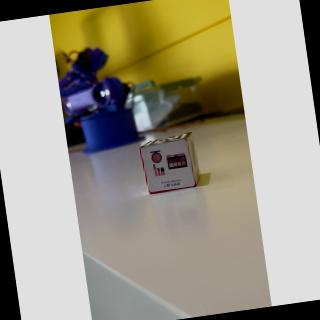Expired_Cosmetic: (138, 139, 202, 197)
